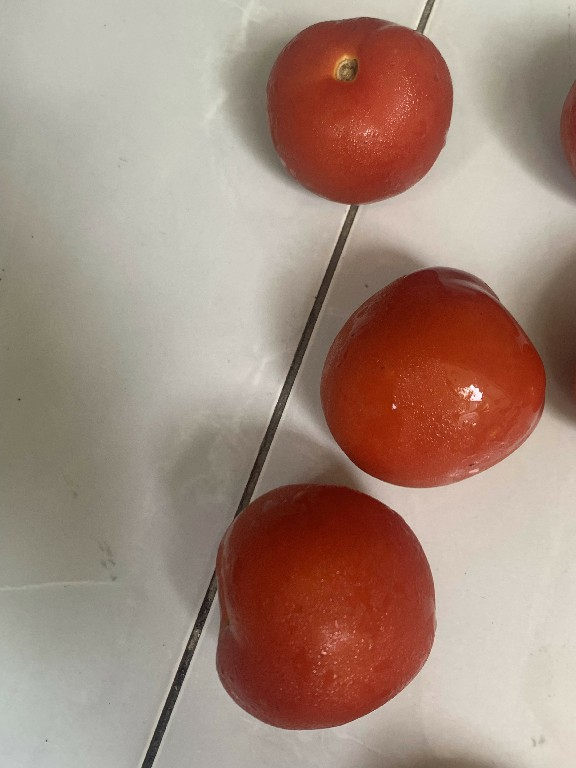OK: (200, 474, 448, 734), (314, 258, 556, 500), (259, 6, 461, 207)
